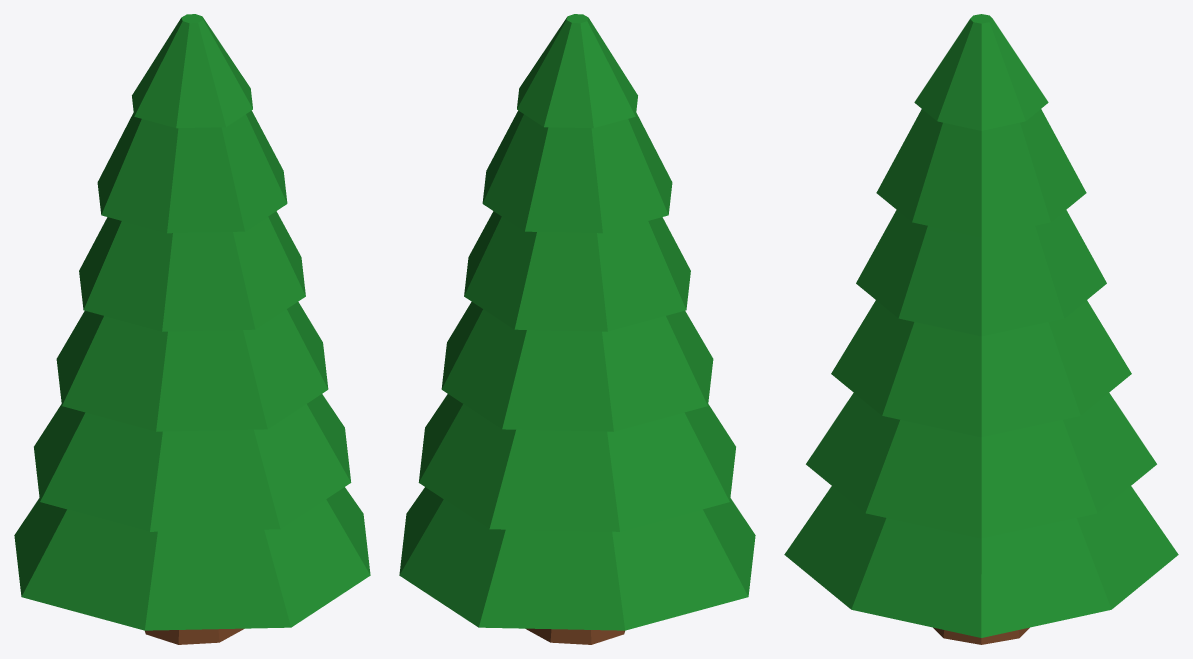
Rendered from Tree1.fbx.
The picture shows the model from 3 angles, left to right: view 1: azimuth 30°, elevation 25°; view 2: azimuth 150°, elevation 25°; view 3: azimuth 270°, elevation 25°; orthographic projection.
Visible parts, largest first — view 1: Pine Tree; view 2: Pine Tree; view 3: Pine Tree.
Part boxes in pixels (x1,y1,x2,y2): Pine Tree: (14,14,370,644); Pine Tree: (399,14,755,644); Pine Tree: (784,14,1178,644).
Size of the model in its own units: 212 by 358 by 212.
